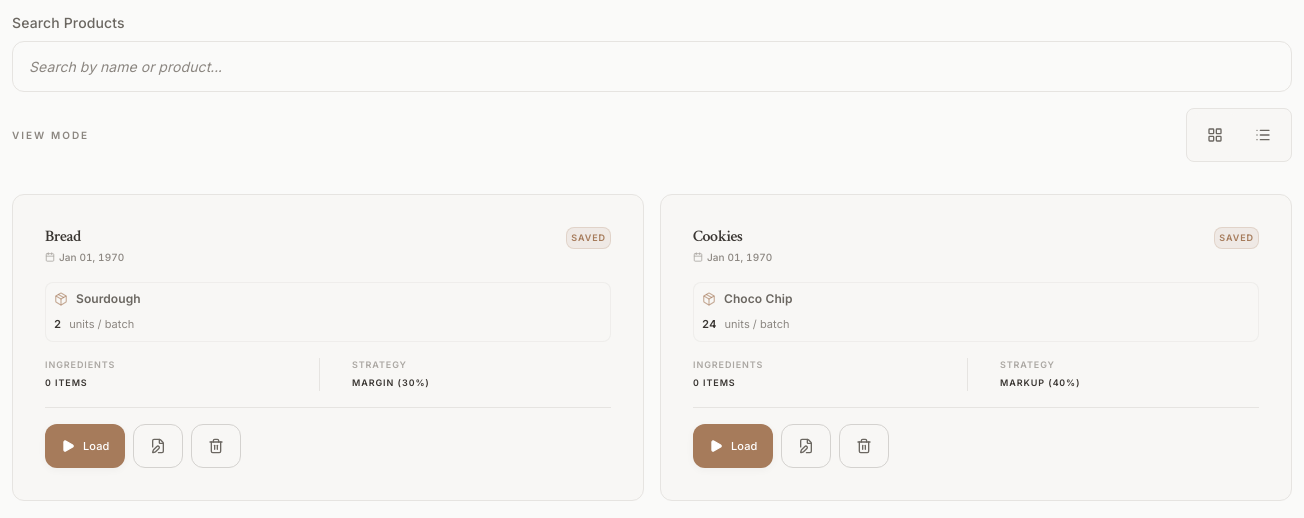
Scenario: PresetsList › shows empty state when no search results found
Type "nonexistent" into the field with placeholder "Search by name or product..." at (652,66), box [12,41,1292,92]
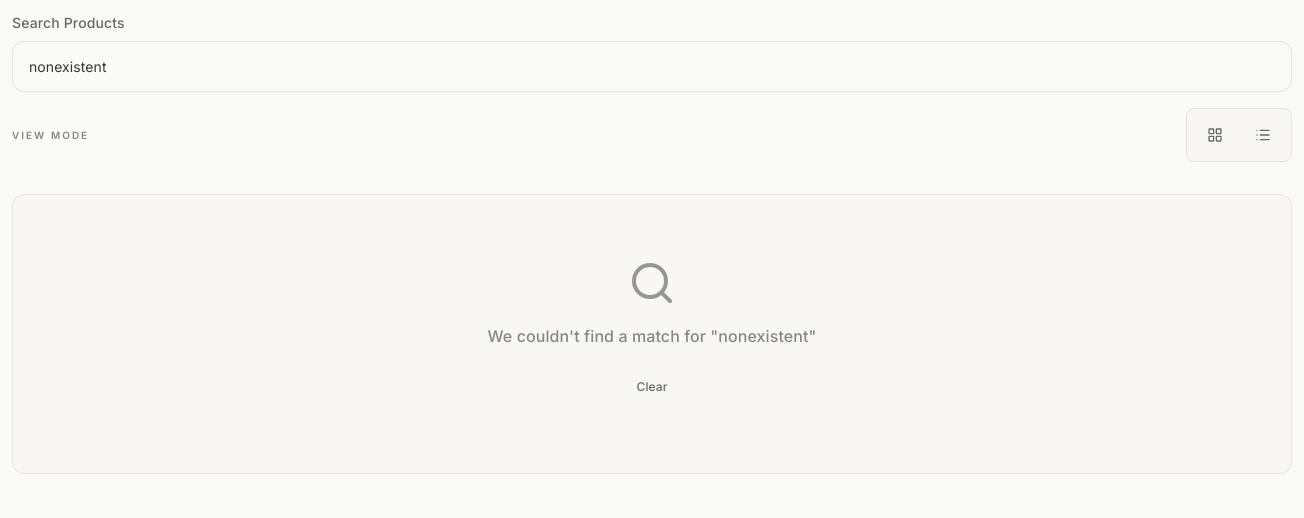
expect the text "We couldn't find a match for \"nonexistent\"" is shown: met, box [488,326,816,346]
Click the button "Clear" at (652,387), box [621,365,684,409]
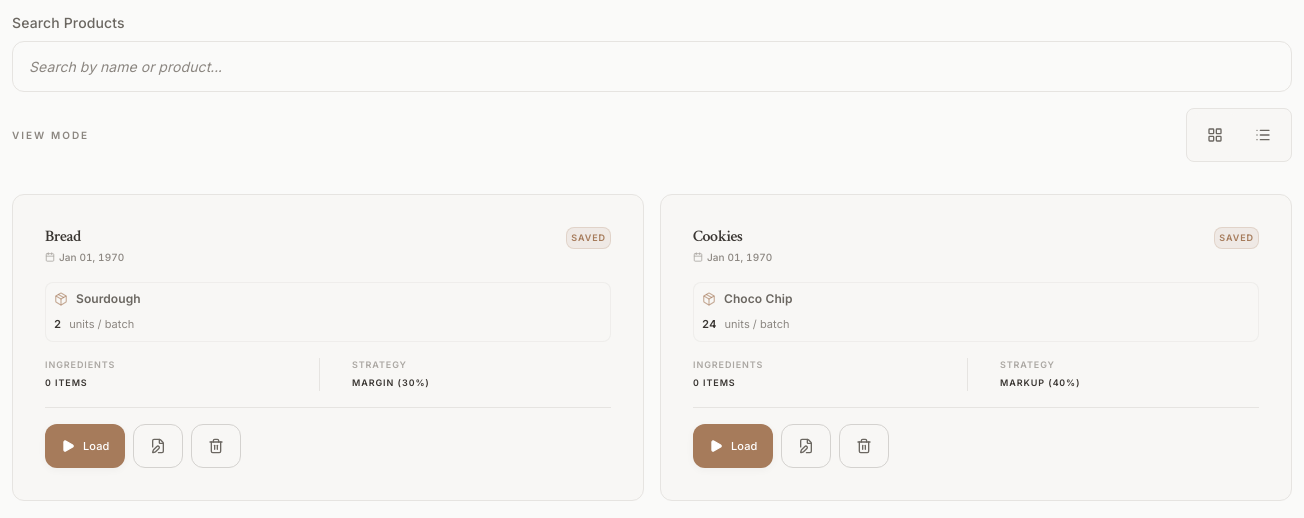
expect the heading "Cookies" is shown: met, box [693,226,742,247]
expect the heading "Bread" is shown: met, box [45,226,81,247]
